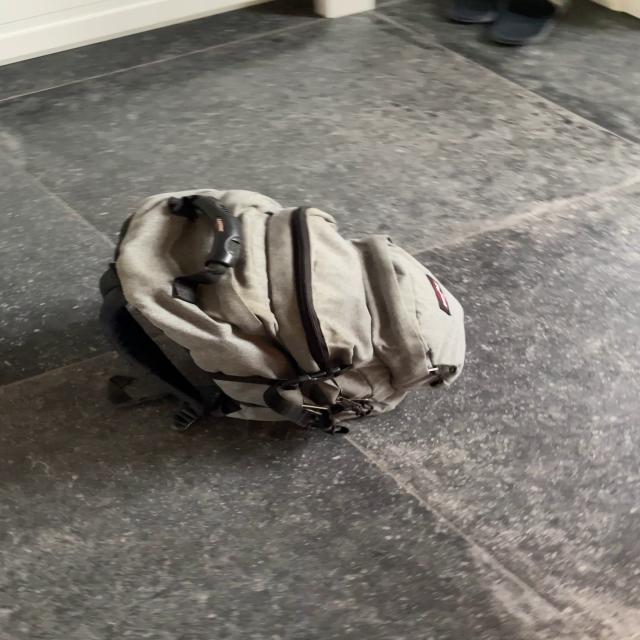backpack: (81, 182, 482, 434)
